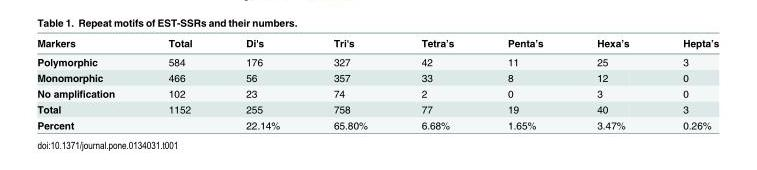table: (36, 36, 718, 130)
table column: (36, 36, 140, 130), (480, 36, 569, 130), (218, 36, 306, 130), (306, 36, 393, 130), (393, 36, 480, 130), (569, 36, 655, 130), (140, 36, 218, 130), (655, 36, 718, 130)
table column header: (36, 36, 718, 52)
table row: (36, 52, 718, 69), (36, 36, 718, 52), (36, 69, 718, 85), (36, 85, 718, 101), (36, 101, 718, 116), (36, 116, 718, 130)
